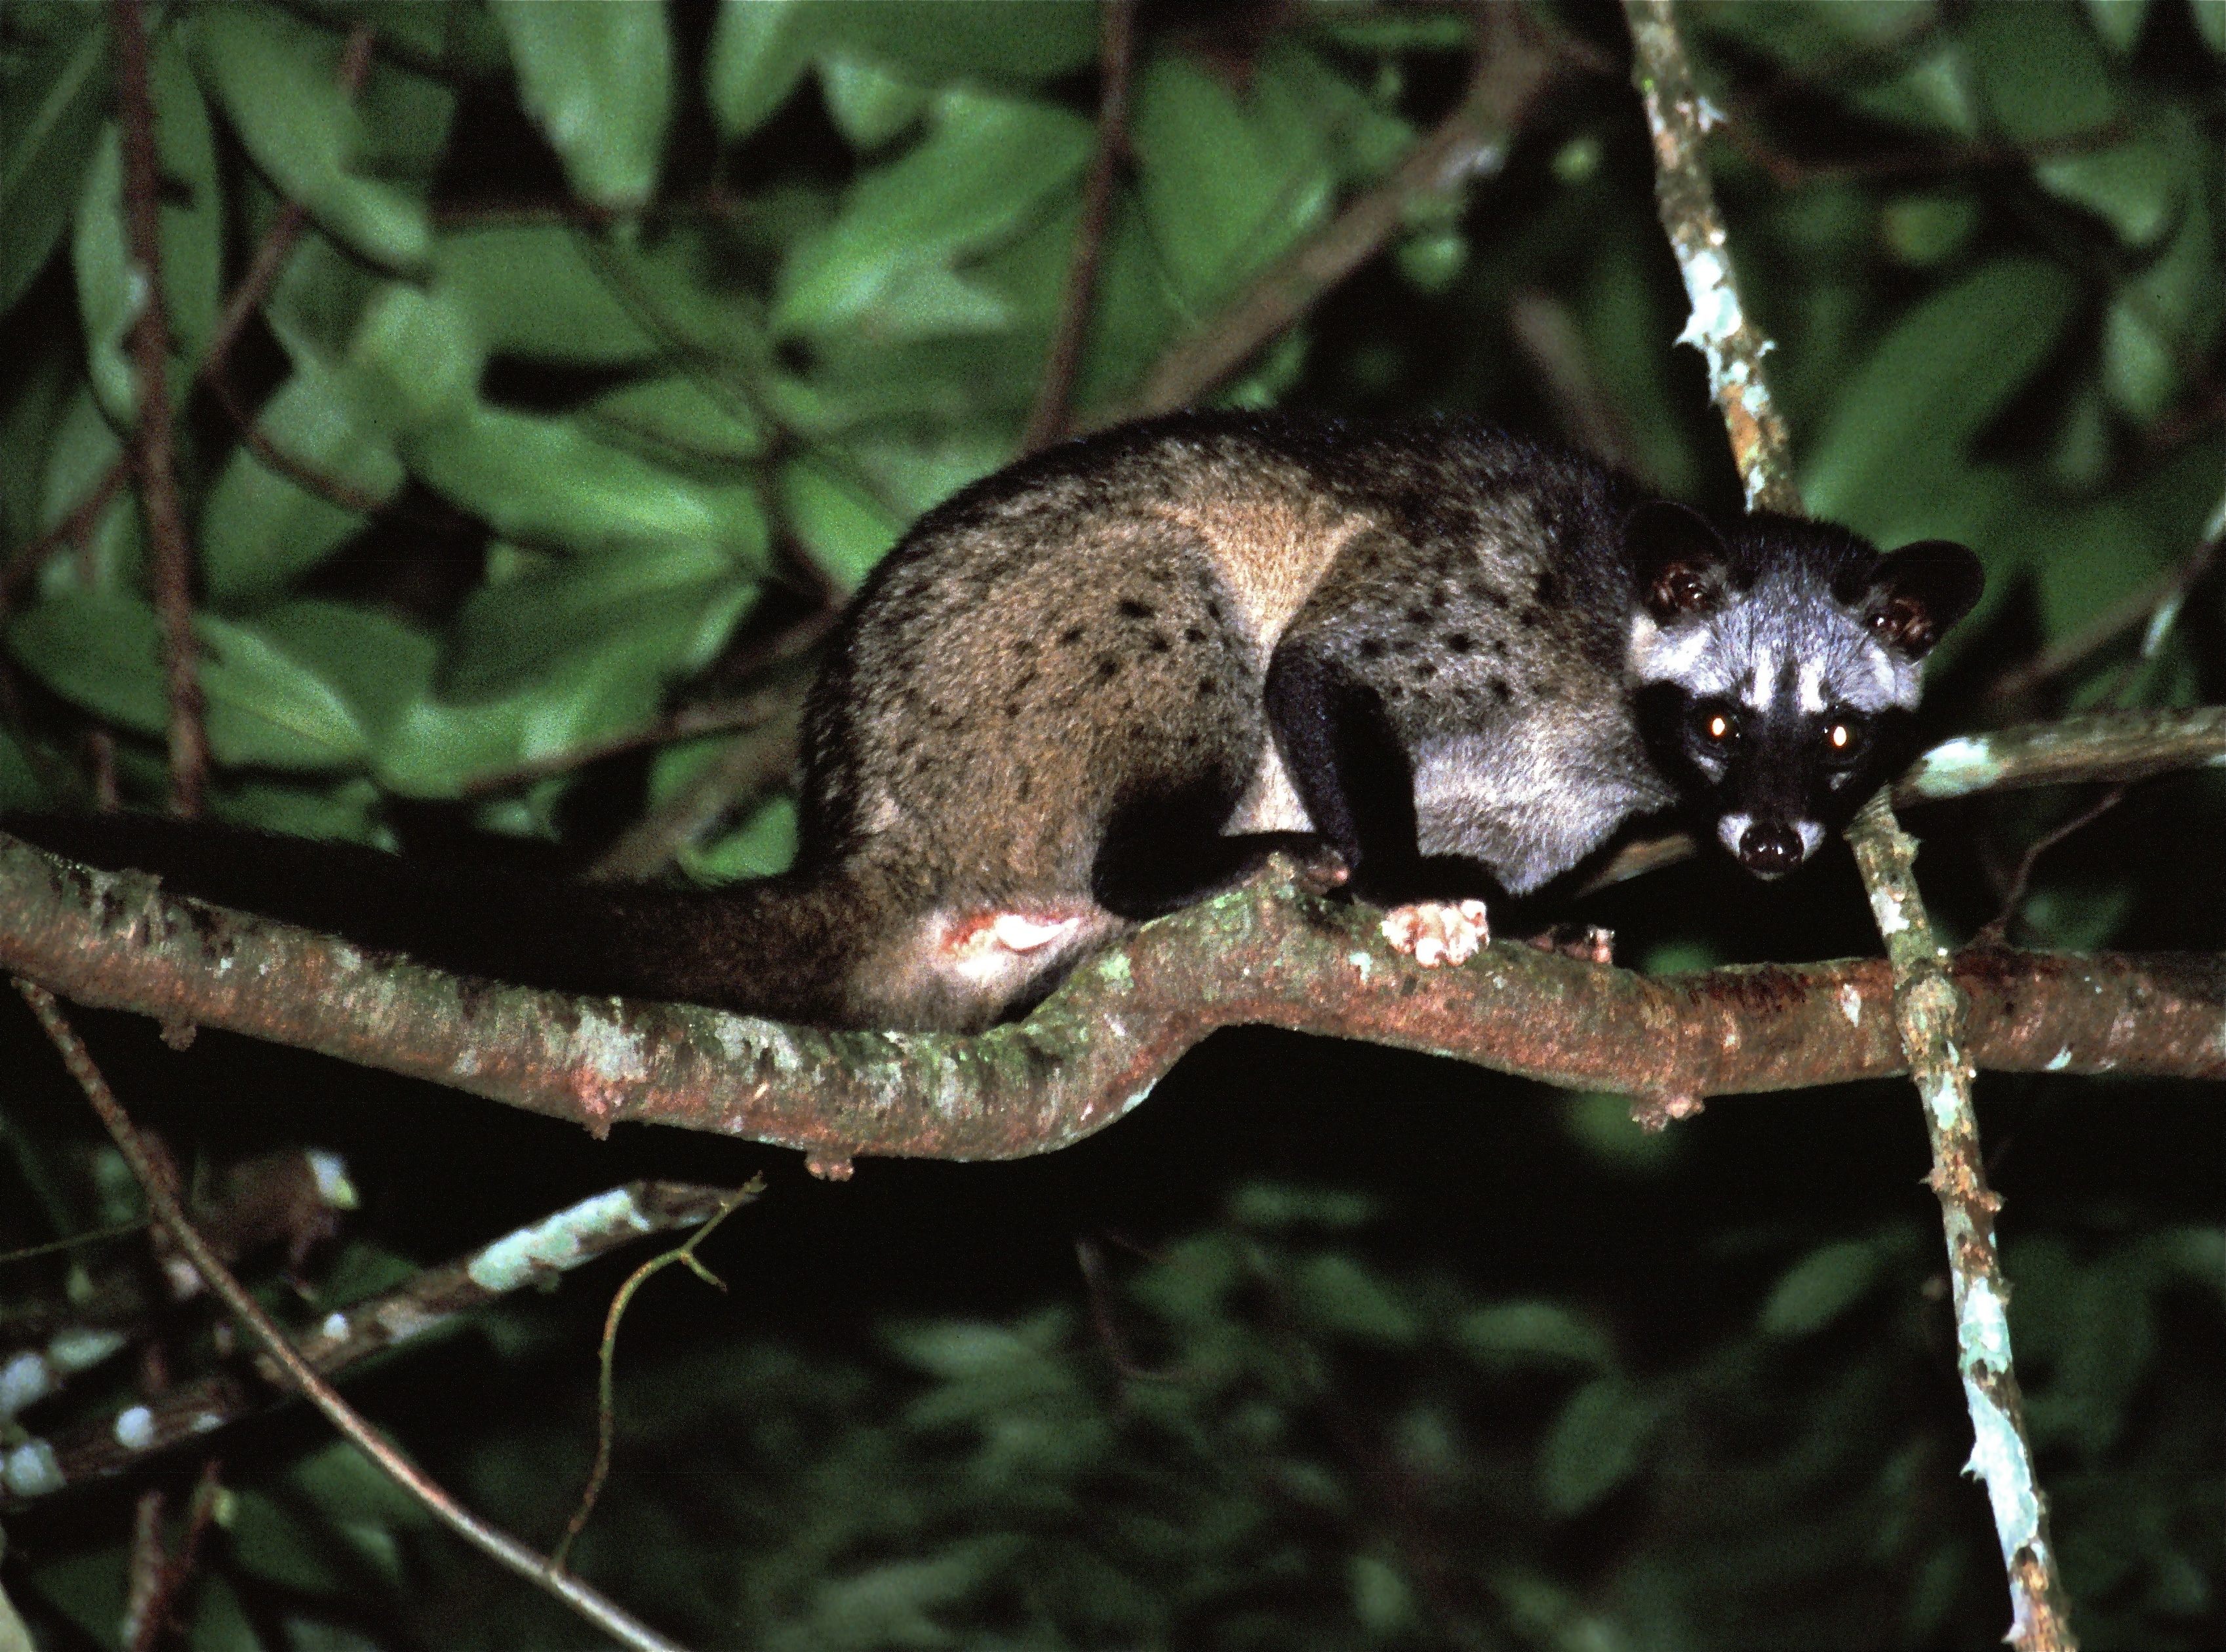Civet: (750, 383, 1995, 1057)
